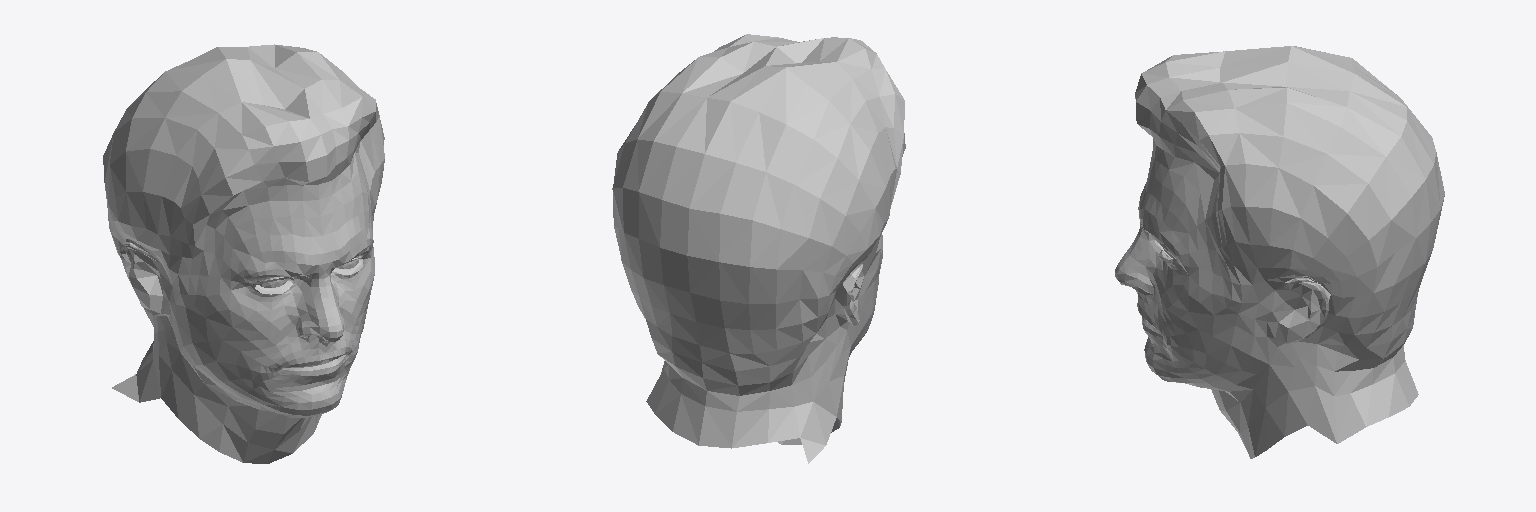
Rendered from KONIEC.obj.
3 views of the same model, side by side, from view 1: azimuth 30°, elevation 25°; view 2: azimuth 150°, elevation 25°; view 3: azimuth 270°, elevation 25° (orthographic).
Visible parts, largest first — view 1: theillusiveman_illHead; view 2: theillusiveman_illHead; view 3: theillusiveman_illHead.
Boxes of the visible parts, box(x1,y1,x2,y2) form: theillusiveman_illHead: box(103, 44, 384, 463); theillusiveman_illHead: box(612, 34, 905, 463); theillusiveman_illHead: box(1115, 46, 1444, 458).
Bounding box in the file's own units: 7.3 × 11.67 × 8.8.